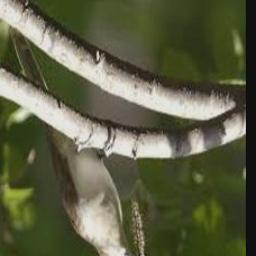Cuckoo: (11, 25, 140, 256)
